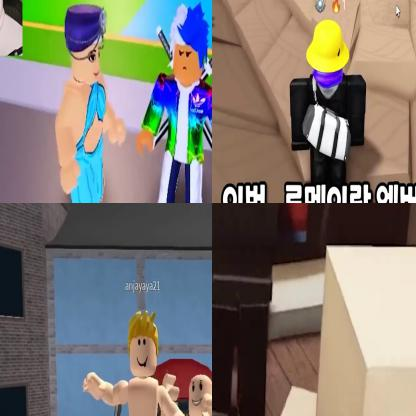Roblox-Avatar: (136, 2, 212, 203), (56, 5, 128, 203), (213, 204, 280, 416), (291, 20, 367, 182), (83, 311, 192, 416)
